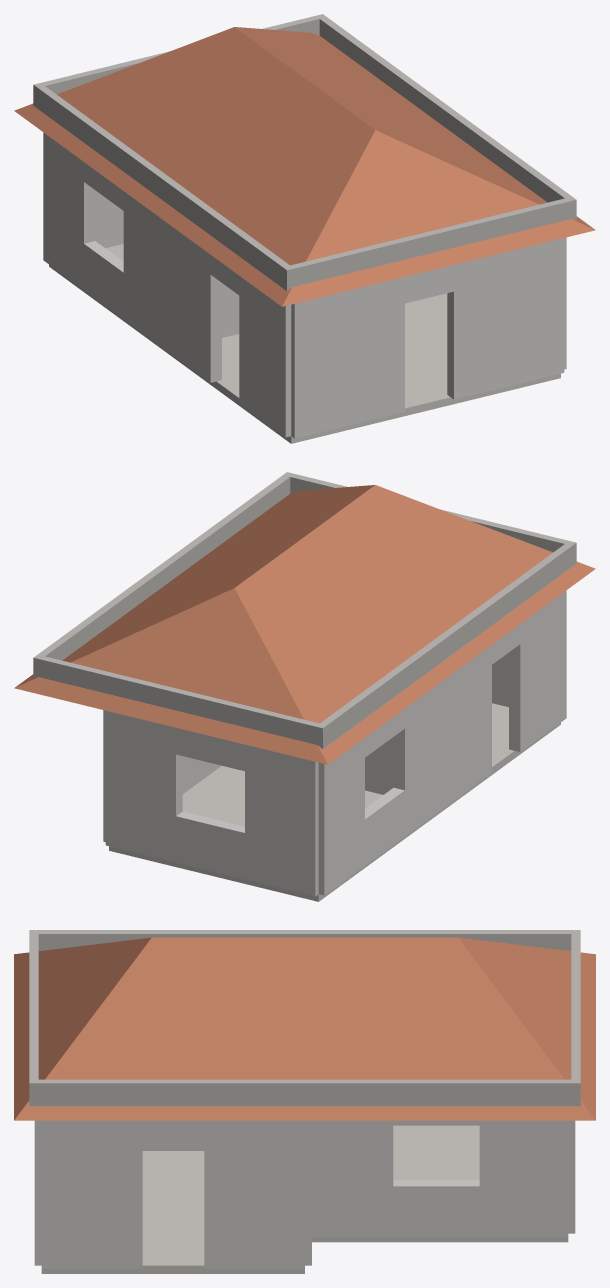
Rendered from test_bw_3d_roof_01.glb.
The picture shows the model from 3 angles, top to bottom: view 1: azimuth 30°, elevation 25°; view 2: azimuth 150°, elevation 25°; view 3: azimuth 270°, elevation 25°; orthographic projection. The views are drawn at different scales.
Parts seen in each view (by area): view 1: roof_tiles, walls, roof_flat, room_living; view 2: roof_tiles, walls, roof_flat, room_bedroom, room_living; view 3: roof_tiles, walls, roof_flat, room_living, room_bedroom.
Boxes of the visible parts, <box> form: roof_tiles: <box>14,27,595,306</box>; walls: <box>43,132,566,438</box>; roof_flat: <box>33,14,576,290</box>; room_living: <box>170,293,560,443</box>; roof_tiles: <box>14,485,595,764</box>; walls: <box>103,590,566,896</box>; roof_flat: <box>33,472,576,748</box>; room_bedroom: <box>109,766,439,901</box>; room_living: <box>440,703,560,812</box>; roof_tiles: <box>14,937,595,1120</box>; walls: <box>34,1120,575,1268</box>; roof_flat: <box>29,930,580,1106</box>; room_living: <box>41,1151,304,1273</box>; room_bedroom: <box>312,1125,568,1242</box>.
Size of the model in its own units: 6.39 by 4.74 by 9.43.
